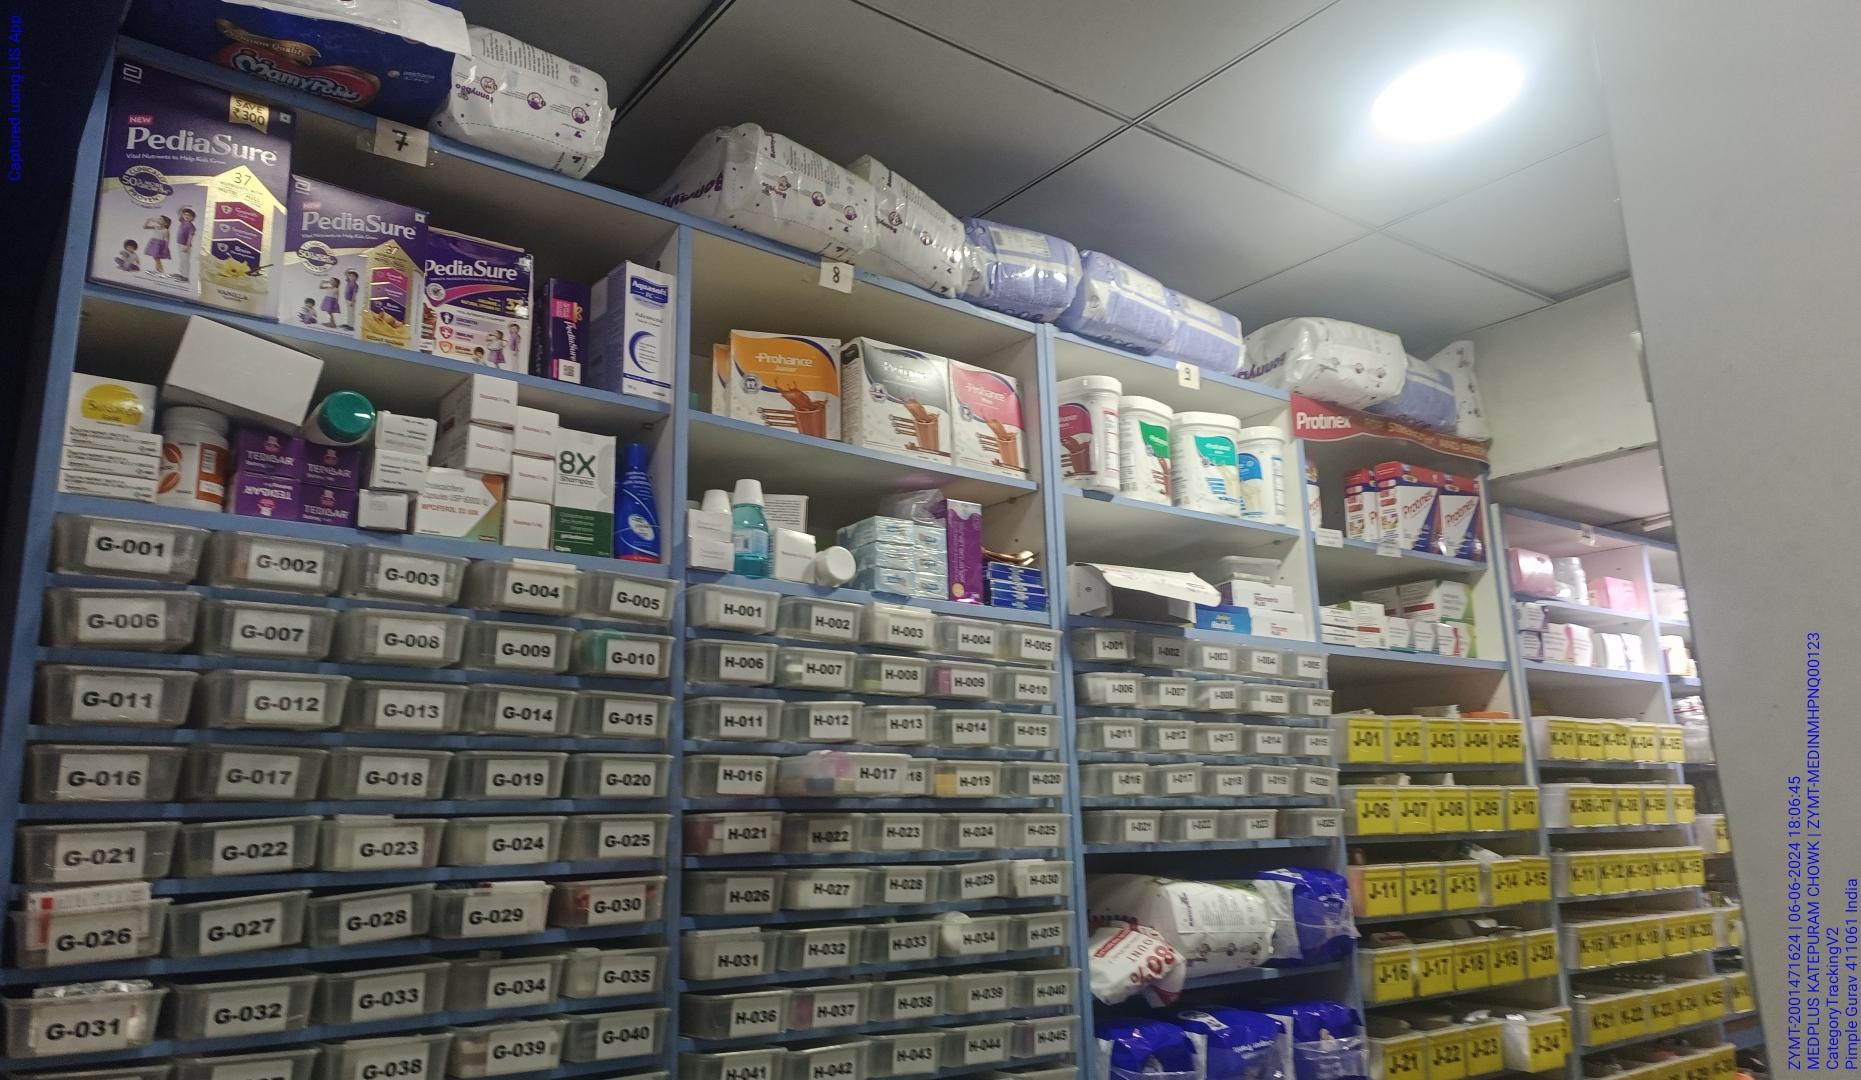PEDIASURE_VANILLA_500_G_PACK: (114, 105, 281, 314), (285, 175, 422, 343)
